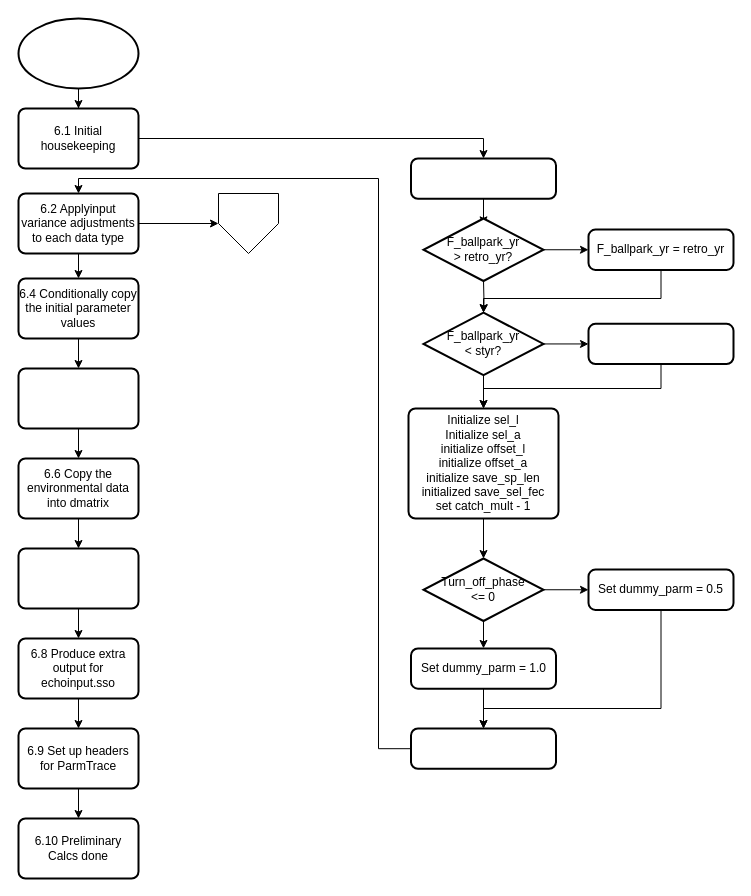
Some shapes in this 751 by 896 pixel diagram are drawn without their labels. Each missing label, with the centre of its shape:
6.0 Preliminary Cals Section: pixel 78 53
6.5 Check parameter bounds and do jitter: pixel 78 398
6.7 Initialize several rebuilding items: pixel 78 578
F_ballpark_lambda = 0: pixel 660 343
Initialize random generator radm: pixel 483 178
See File prelim_6-2: pixel 248 223
Set Cohort_Growth = 1.0: pixel 483 748
